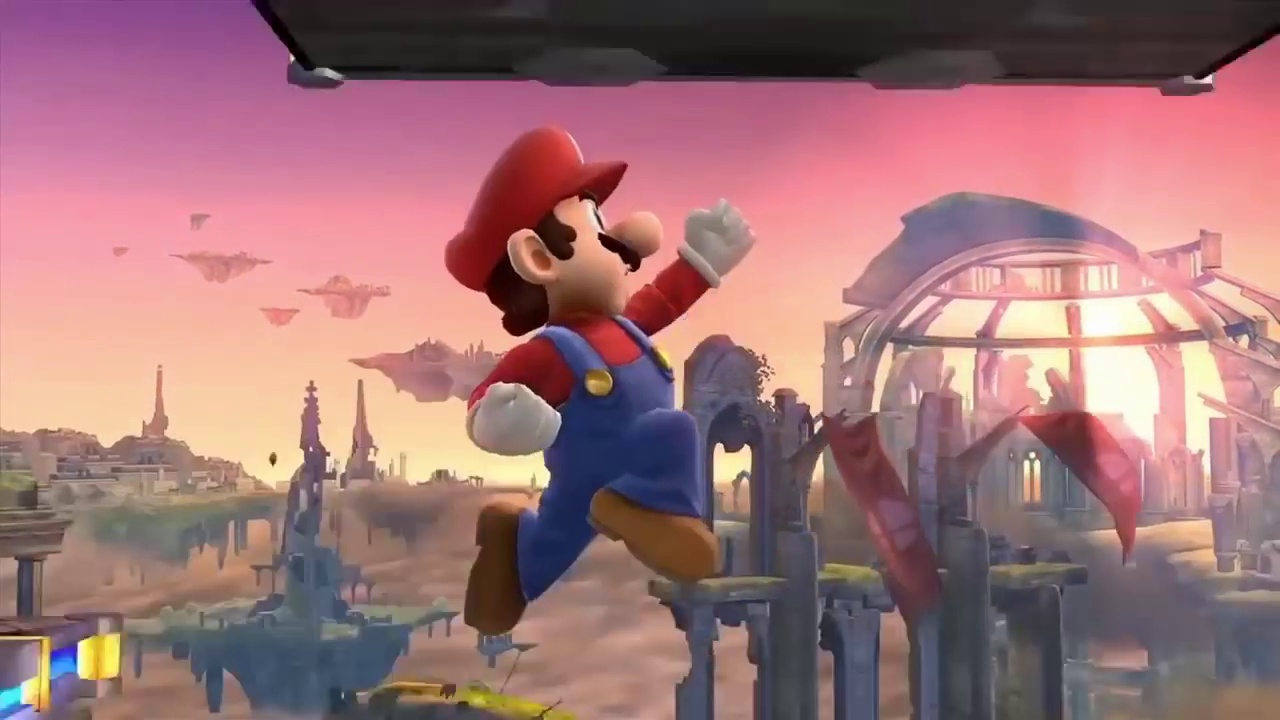Mario: (444, 126, 755, 635)
